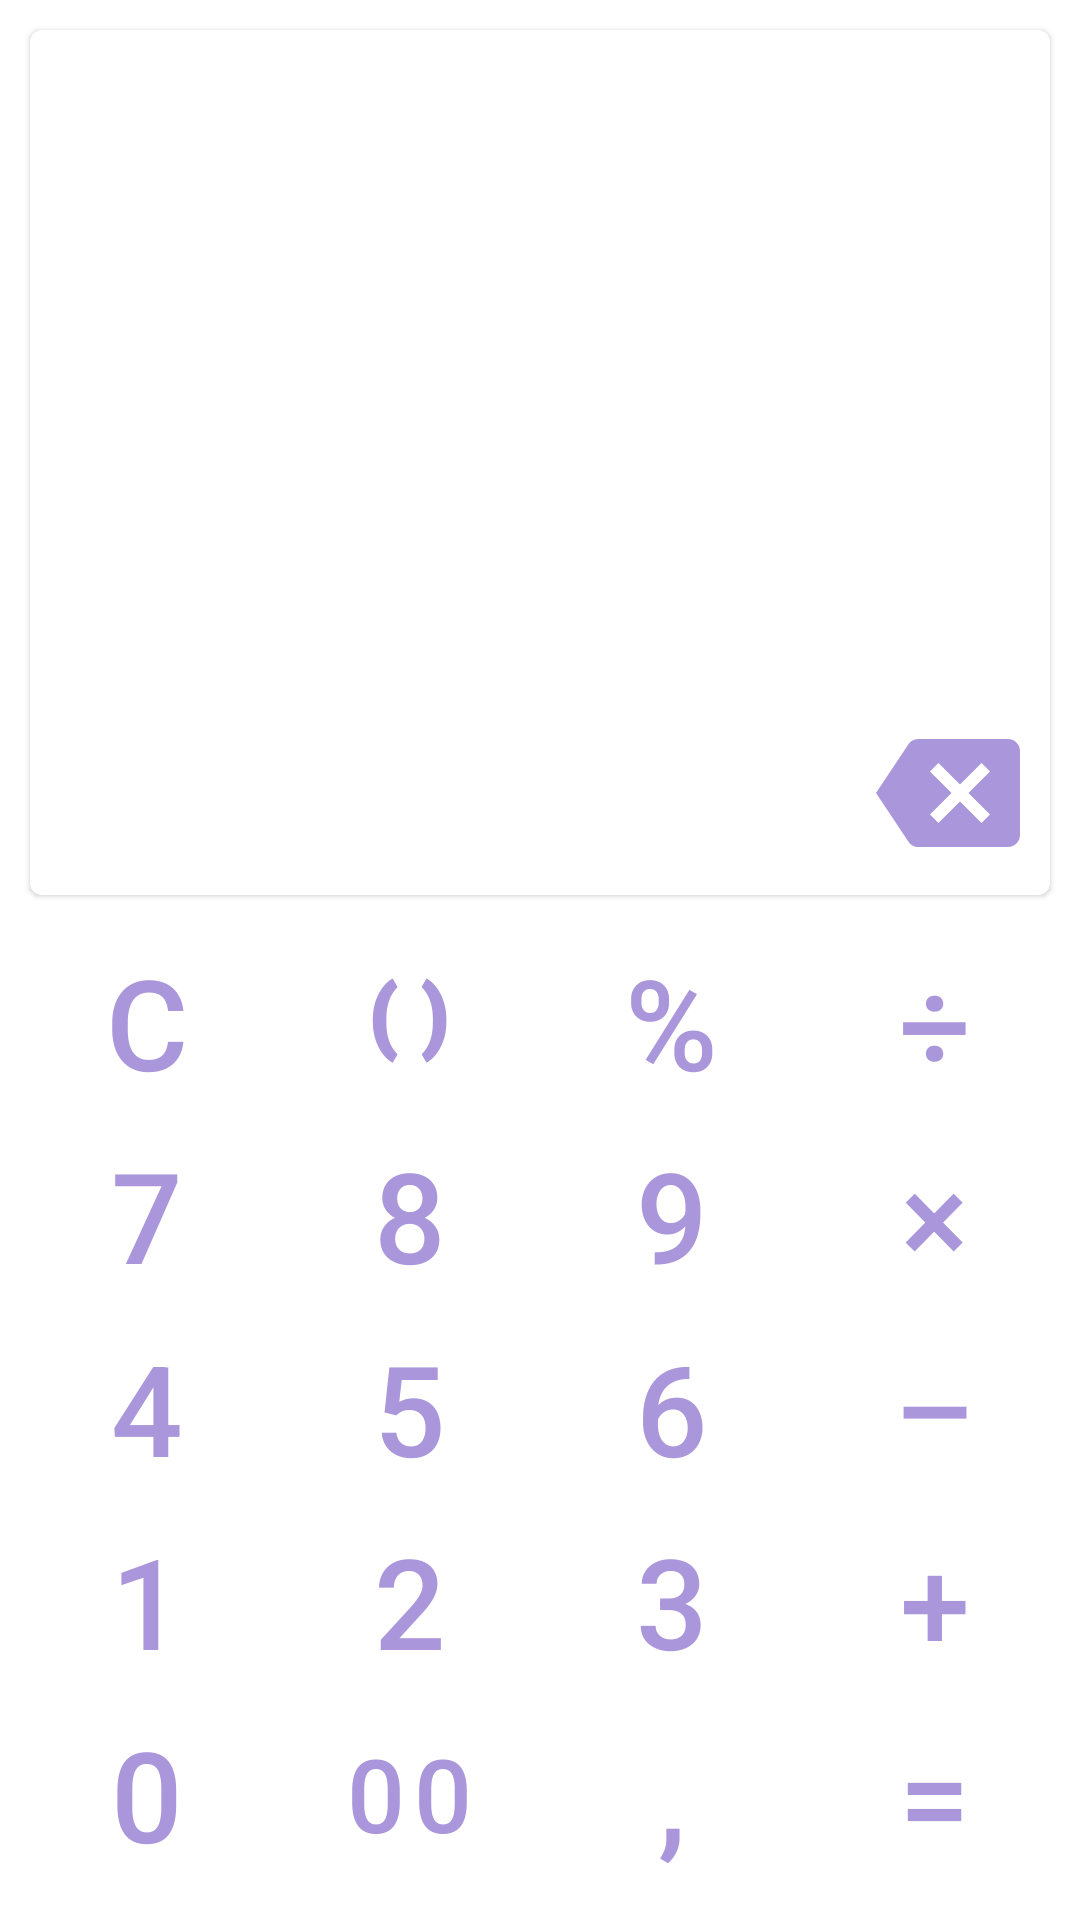

Named icons in this screenshot (1080x1920) and their centers, point (x, y):
backspace: point (948, 793)
